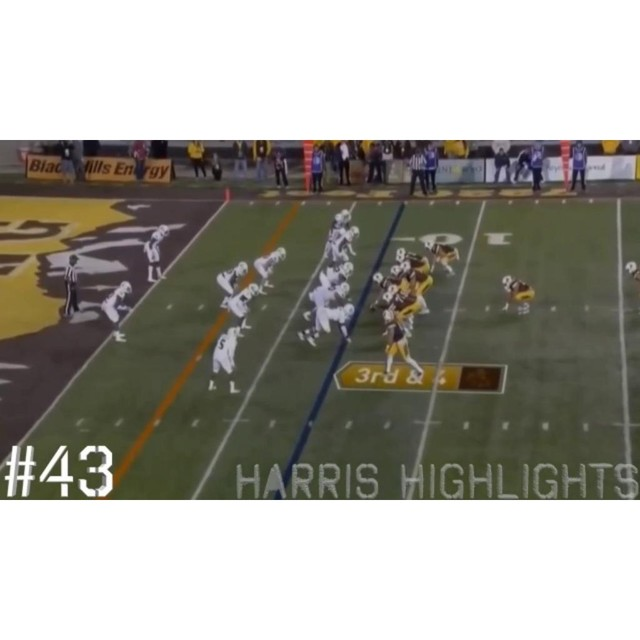american-football-player: (299, 279, 354, 335), (381, 311, 423, 381), (208, 326, 243, 396), (101, 281, 133, 343), (226, 282, 262, 334), (216, 261, 249, 310), (254, 246, 287, 293), (143, 225, 170, 282), (325, 226, 360, 268), (423, 240, 460, 278), (501, 275, 536, 315), (369, 273, 401, 315), (318, 262, 355, 289), (624, 261, 640, 317)
referee: (61, 254, 83, 319)
